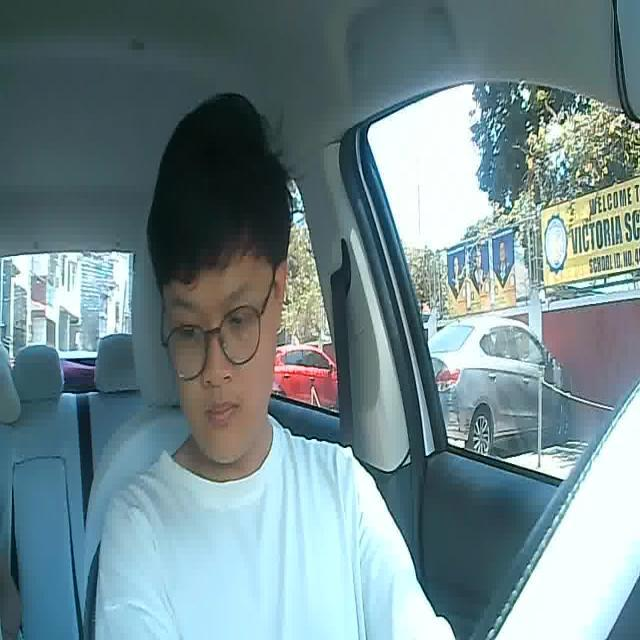Eye-Open: (174, 316, 201, 350), (223, 306, 249, 339)
Inattentive: (144, 91, 292, 465)
Normal: (206, 399, 238, 428)
